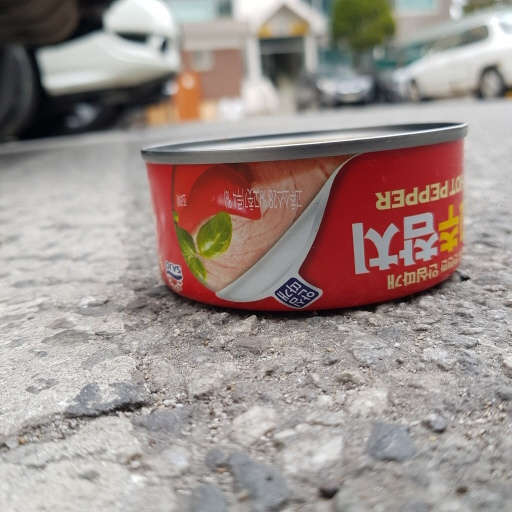Metal_1: (139, 121, 473, 311)
